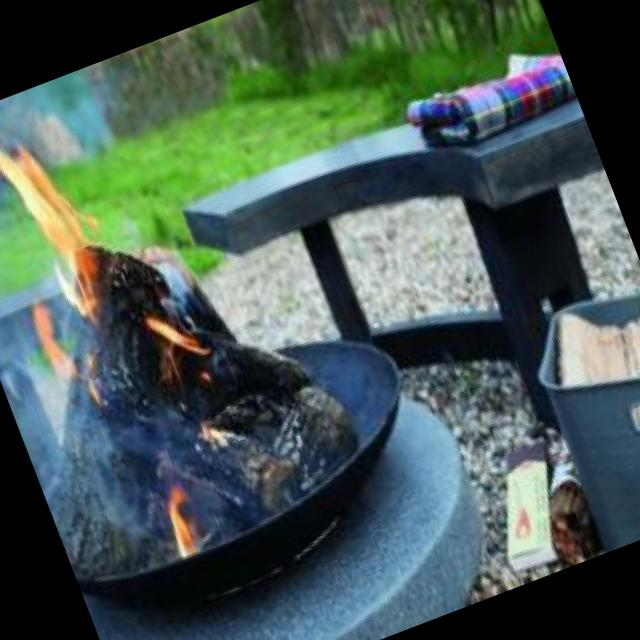fire: (0, 109, 114, 319), (138, 458, 222, 579)
smoke: (0, 298, 169, 581)
